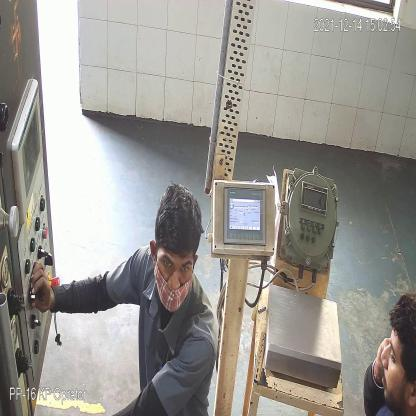no_goggles: (158, 253, 195, 280)
